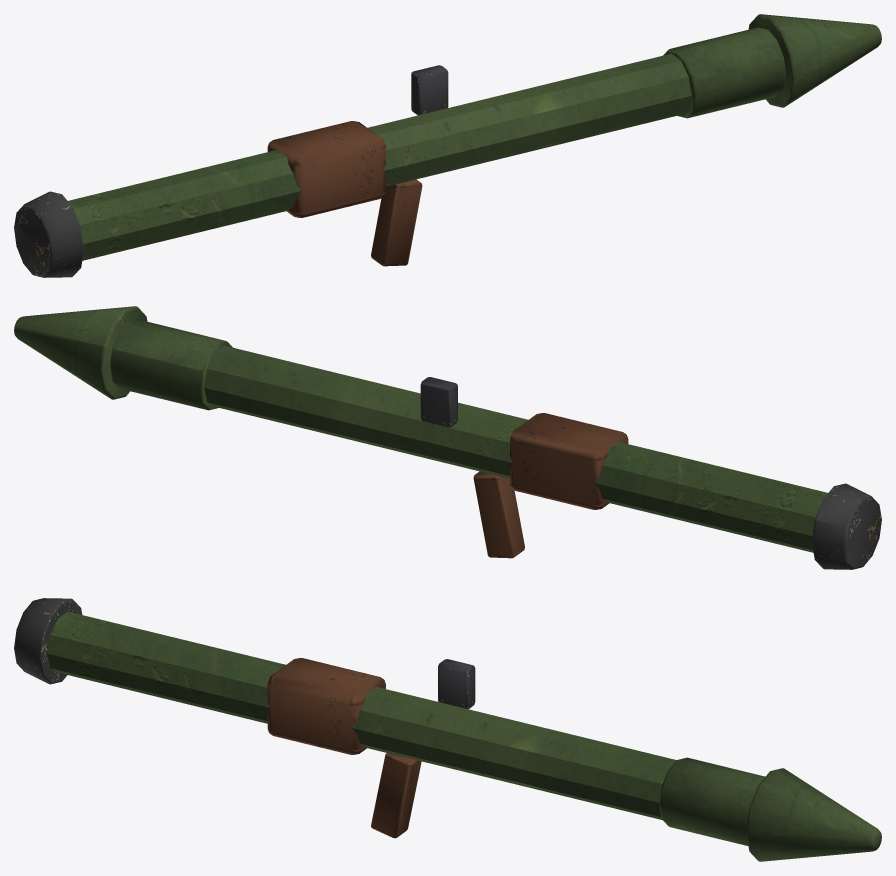
File: held_weapon_rocket_launcher.glb
3 views of the same model, one above another, from view 1: azimuth 30°, elevation 25°; view 2: azimuth 150°, elevation 25°; view 3: azimuth 330°, elevation 25° (orthographic).
Visible parts, largest first — view 1: cyl, box, cyl.001, cyl.002, cyl.003, box.001, box.002; view 2: cyl, box, cyl.001, cyl.002, cyl.003, box.001, box.002; view 3: cyl, cyl.002, box, cyl.001, cyl.003, box.001, box.002.
Part boxes in pixels (left/top/right/bottom): cyl: left=68, top=54, right=691, bottom=260; box: left=267, top=121, right=385, bottom=217; cyl.001: left=663, top=27, right=785, bottom=118; cyl.002: left=748, top=14, right=881, bottom=107; cyl.003: left=14, top=191, right=83, bottom=277; box.001: left=371, top=179, right=422, bottom=266; box.002: left=411, top=65, right=448, bottom=115; cyl: left=204, top=346, right=827, bottom=552; box: left=510, top=413, right=628, bottom=509; cyl.001: left=110, top=319, right=232, bottom=410; cyl.002: left=14, top=306, right=147, bottom=399; cyl.003: left=812, top=483, right=881, bottom=569; box.001: left=473, top=471, right=524, bottom=558; box.002: left=420, top=377, right=457, bottom=427; cyl: left=47, top=611, right=676, bottom=819; cyl.002: left=746, top=768, right=881, bottom=861; box: left=267, top=658, right=385, bottom=754; cyl.001: left=659, top=757, right=764, bottom=845; cyl.003: left=14, top=598, right=82, bottom=684; box.001: left=371, top=753, right=421, bottom=838; box.002: left=438, top=659, right=475, bottom=709.
Size of the model in its own units: 1.09 by 0.2107 by 0.1076.
Materials: 4 (4 with a texture image).
